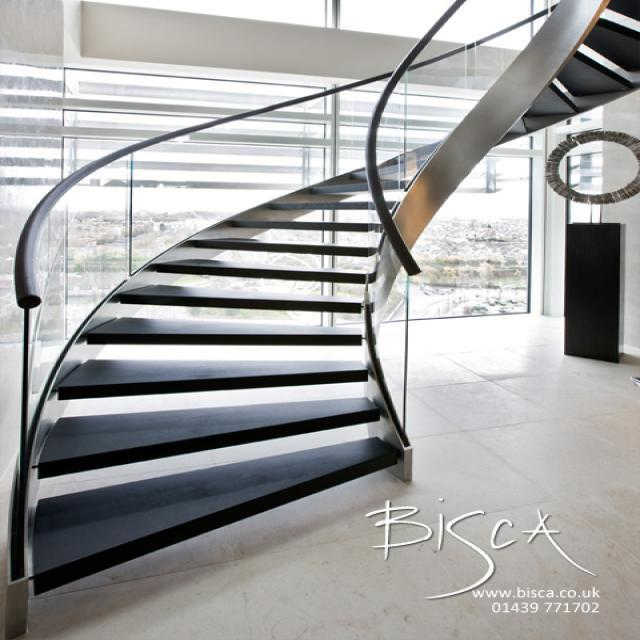stairs: (21, 140, 424, 596)
